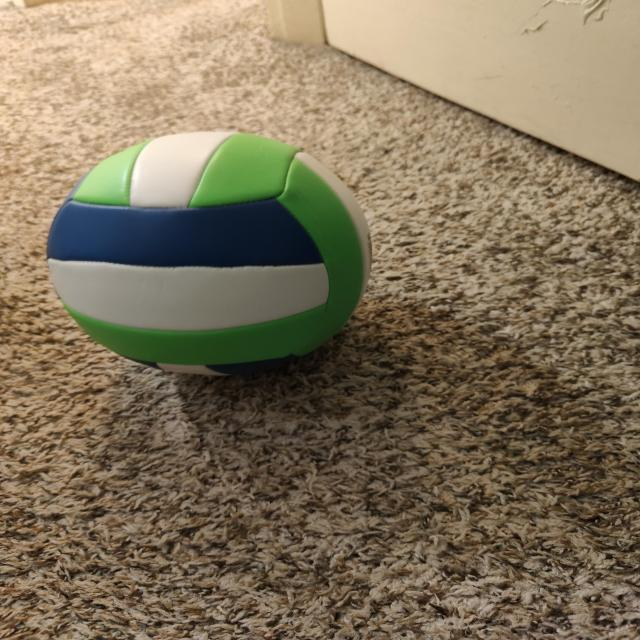ball: (62, 142, 367, 368)
